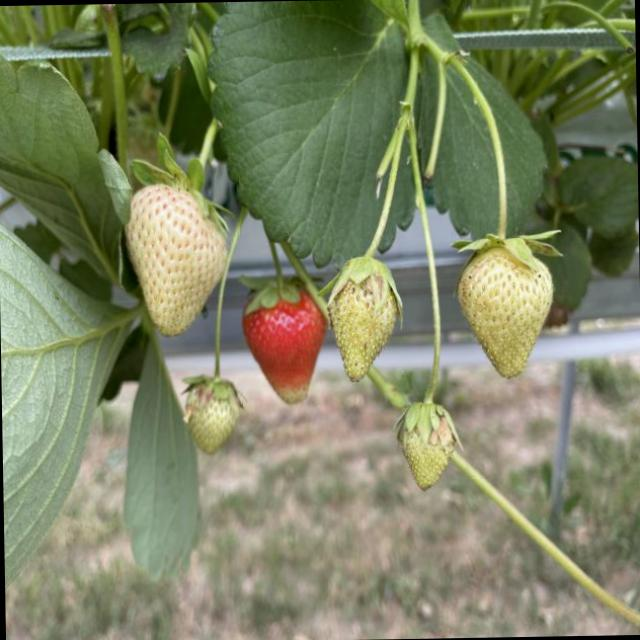stem: (451, 58, 560, 268), (401, 197, 458, 441), (333, 108, 404, 299), (130, 118, 219, 192), (185, 289, 231, 396), (238, 241, 301, 314)
strawberryNR: (123, 184, 227, 334), (456, 248, 552, 375), (330, 274, 396, 379), (399, 419, 452, 487), (186, 383, 235, 451)
strawberryR: (245, 289, 323, 401)
